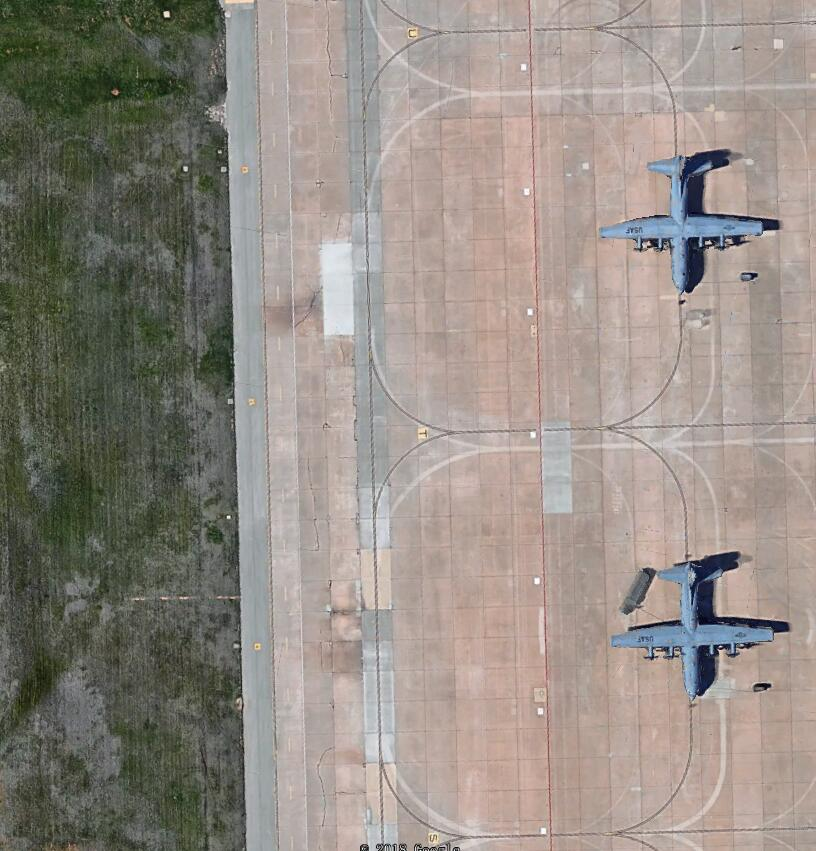A2: (605, 542, 791, 707), (598, 145, 783, 297)
